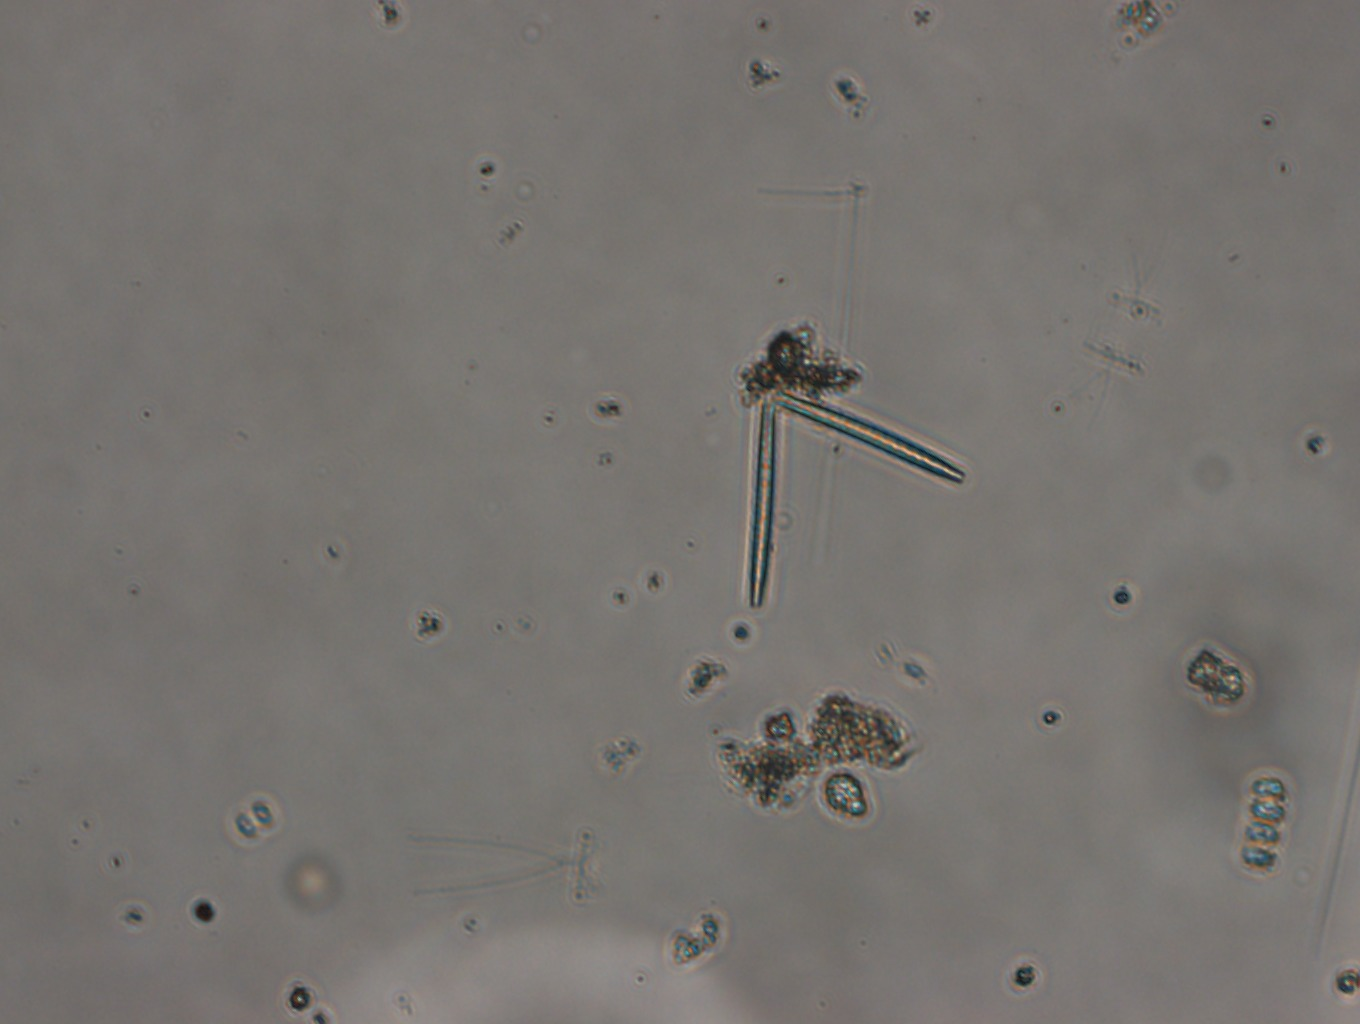thalassionema frauenfeldii: (751, 385, 969, 605)
